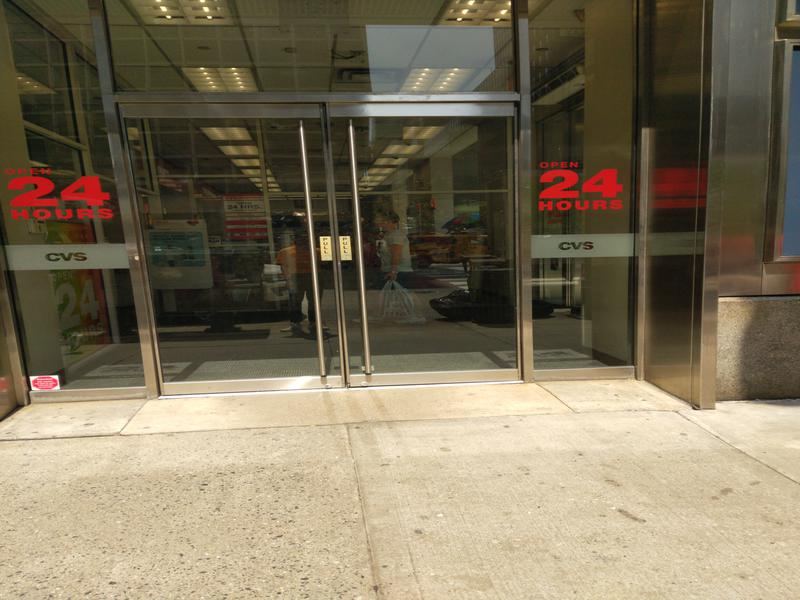double_door: (112, 86, 550, 389)
